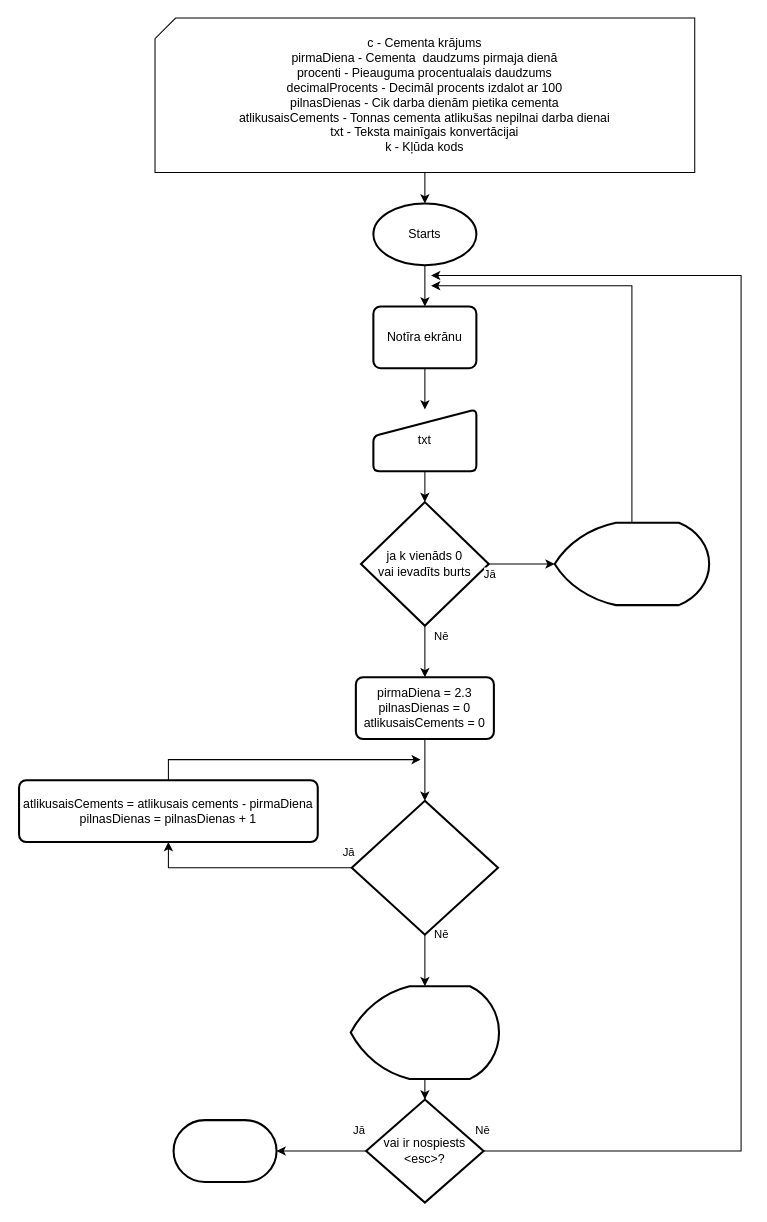
Image size: 767x1222. Some labels were removed from this diagram. The shapes that lost their labels are listed below. From the top down, each one's centre as x and y in pixels, then its label:
(x=631, y=563): Bija kļūda, pasaka lai raksta pozitīvu skaitli
(x=424, y=867): primaDiena <= atlikusaisCements
(x=424, y=1032): pilnasDienas, atlikusaisCements, procenti, decimalProcents
(x=224, y=1150): Beigas
